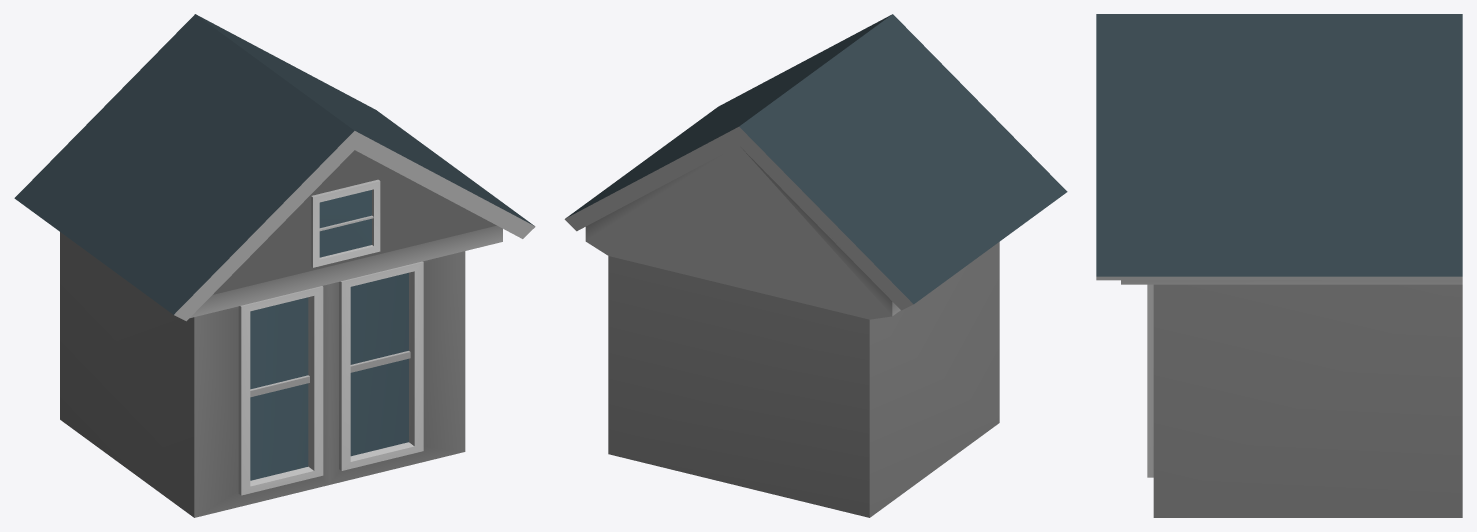
File: house_030.glb
The picture shows the model from 3 angles, left to right: view 1: azimuth 30°, elevation 25°; view 2: azimuth 150°, elevation 25°; view 3: azimuth 270°, elevation 25°; orthographic projection. The views are drawn at different scales.
Parts seen in each view (by area): view 1: house_030; view 2: house_030; view 3: house_030.
Boxes of the visible parts, x1=… form: house_030: x1=14, y1=14, x2=535, y2=517; house_030: x1=564, y1=14, x2=1067, y2=517; house_030: x1=1096, y1=14, x2=1462, y2=517.
Size of the model in its own units: 3.9 by 3.84 by 2.98.
1 material, 1 textured.
